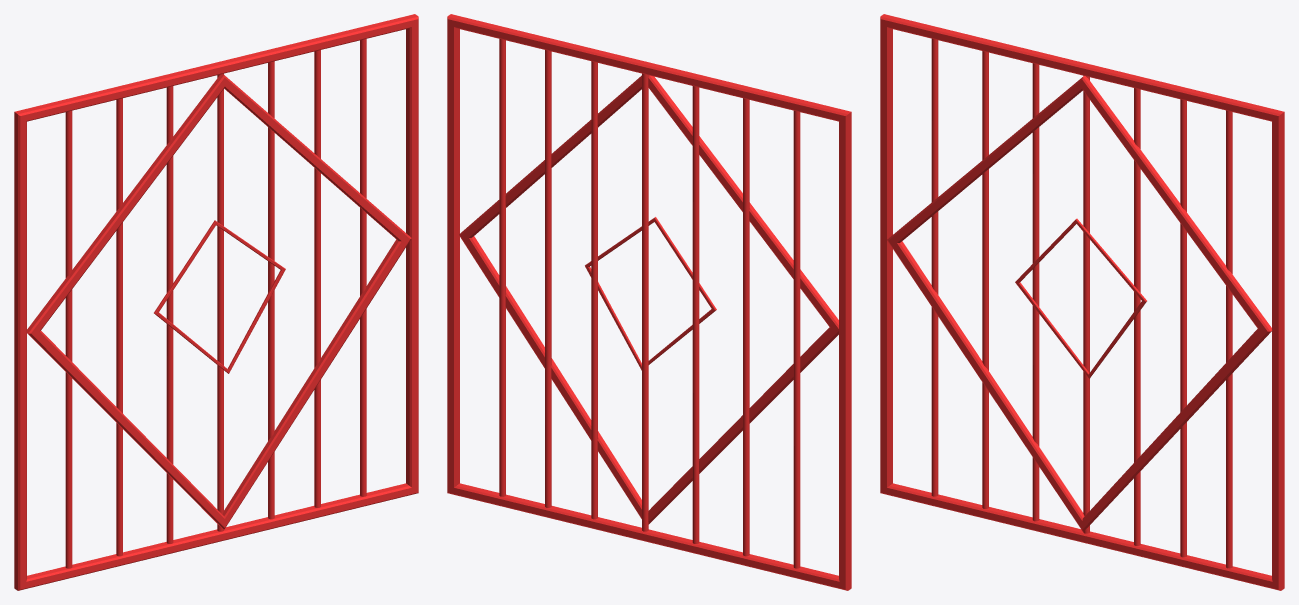
The model's file is Lattice_01_001.fbx.
3 views of the same model, side by side, from view 1: azimuth 30°, elevation 25°; view 2: azimuth 150°, elevation 25°; view 3: azimuth 330°, elevation 25° (orthographic).
Visible parts, largest first — view 1: Box009; view 2: Box009; view 3: Box009.
Part boxes in pixels (x1,y1,x2,y2): Box009: (14,14,418,590); Box009: (447,14,851,590); Box009: (880,14,1284,590).
Size of the model in its own units: 132 by 150 by 3.96.
